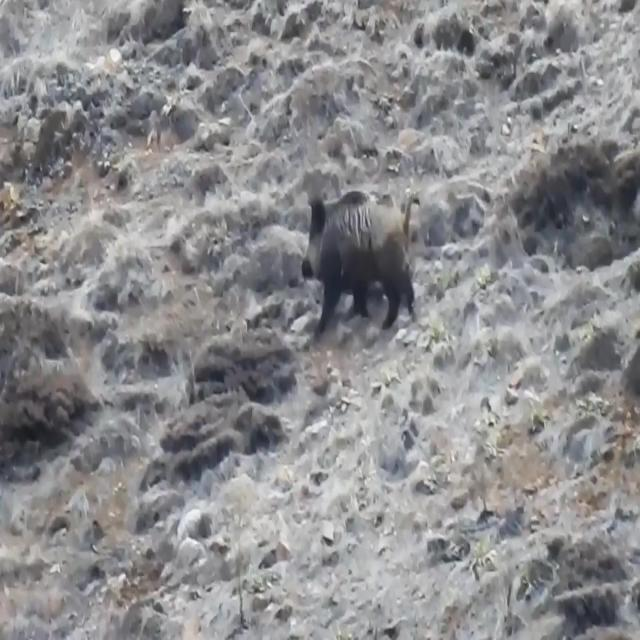pig: (300, 190, 435, 320)
